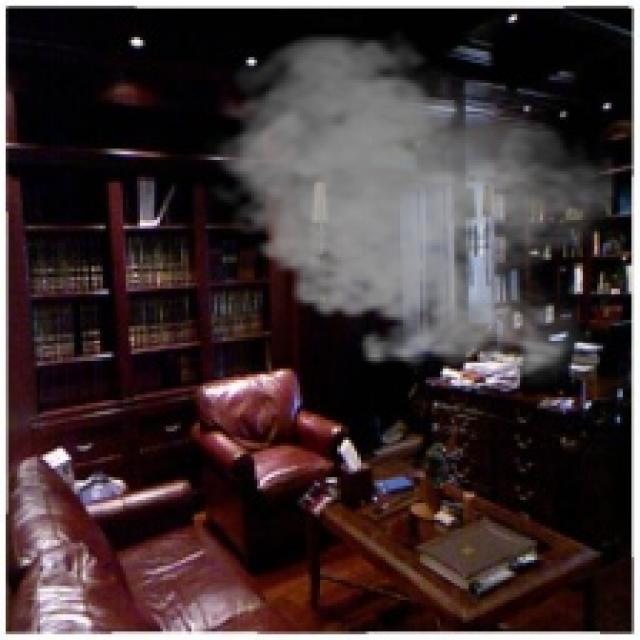smoke: (203, 26, 617, 388)
